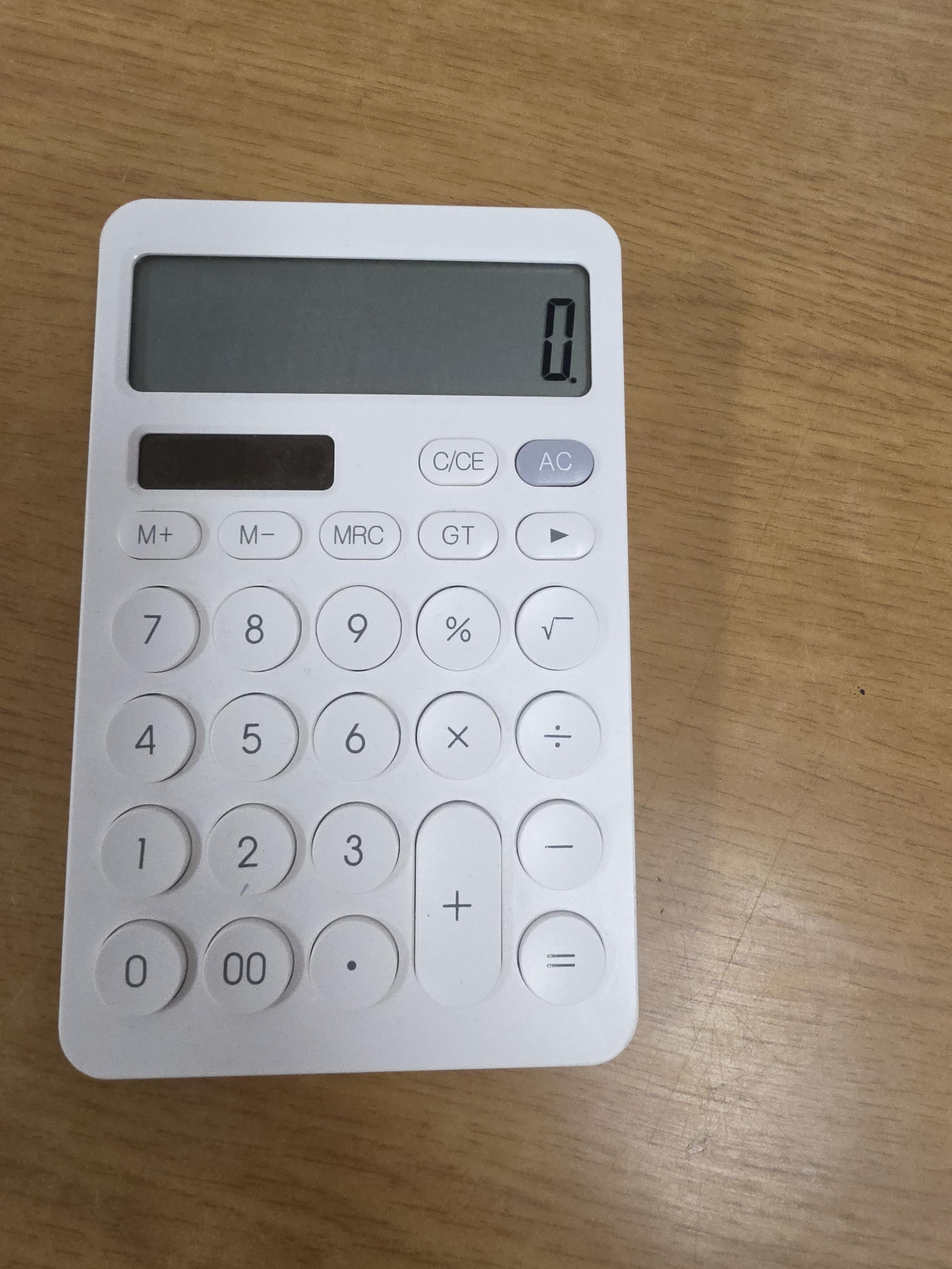calculator: (58, 198, 638, 1079)
